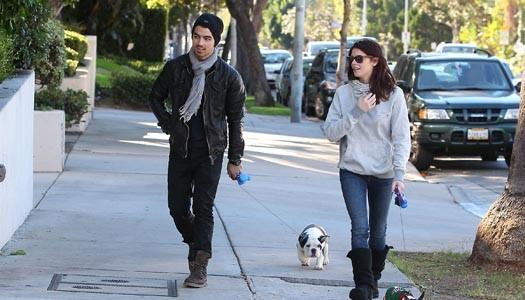person: (149, 13, 248, 288)
